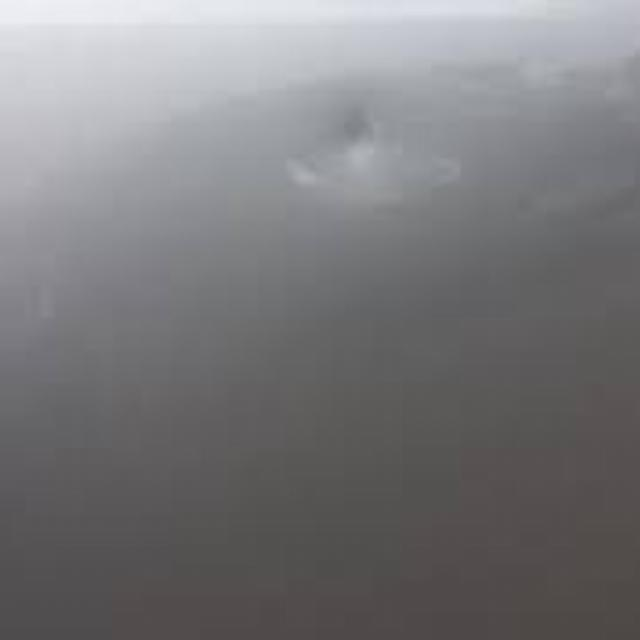dents: (287, 91, 490, 243)
